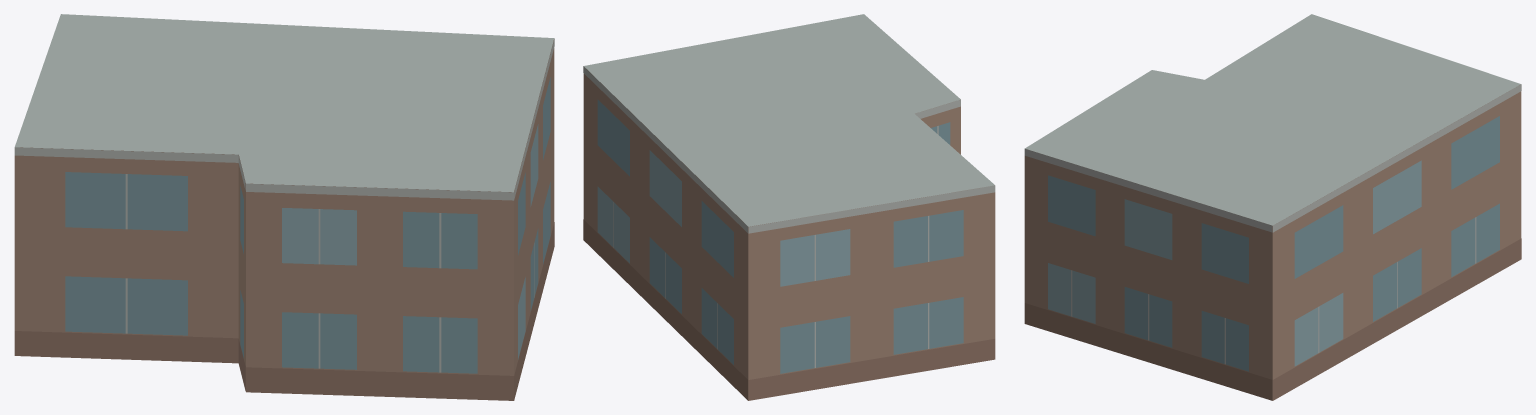
Rendered from survey-upis-33013553.glb.
The picture shows the model from 3 angles, left to right: view 1: azimuth 30°, elevation 25°; view 2: azimuth 150°, elevation 25°; view 3: azimuth 270°, elevation 25°; orthographic projection. The views are drawn at different scales.
Parts seen in each view (by area): view 1: survey-upis-33013553.tmp; view 2: survey-upis-33013553.tmp; view 3: survey-upis-33013553.tmp.
Boxes of the visible parts, bbox=[...] form: survey-upis-33013553.tmp: bbox=[14, 14, 554, 400]; survey-upis-33013553.tmp: bbox=[583, 14, 995, 400]; survey-upis-33013553.tmp: bbox=[1024, 14, 1521, 400].
Bounding box in the file's own units: 15.81 × 6.1 × 15.68.
